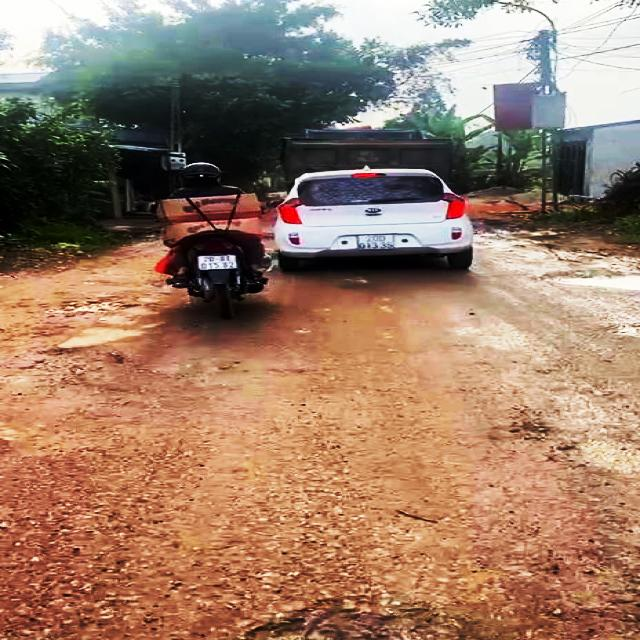pothole: (28, 338, 131, 388), (542, 265, 640, 297), (53, 295, 158, 316)
